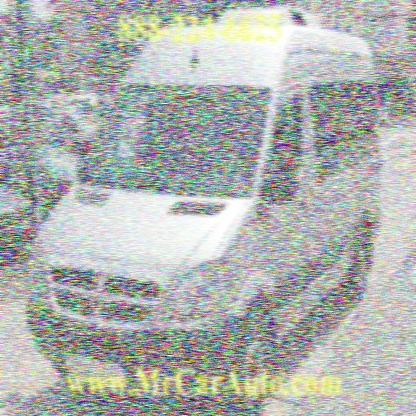Vehicle: (25, 5, 387, 413)
